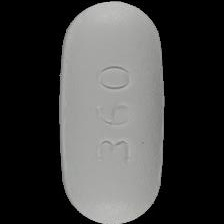52544-694: (0, 0, 224, 224)
